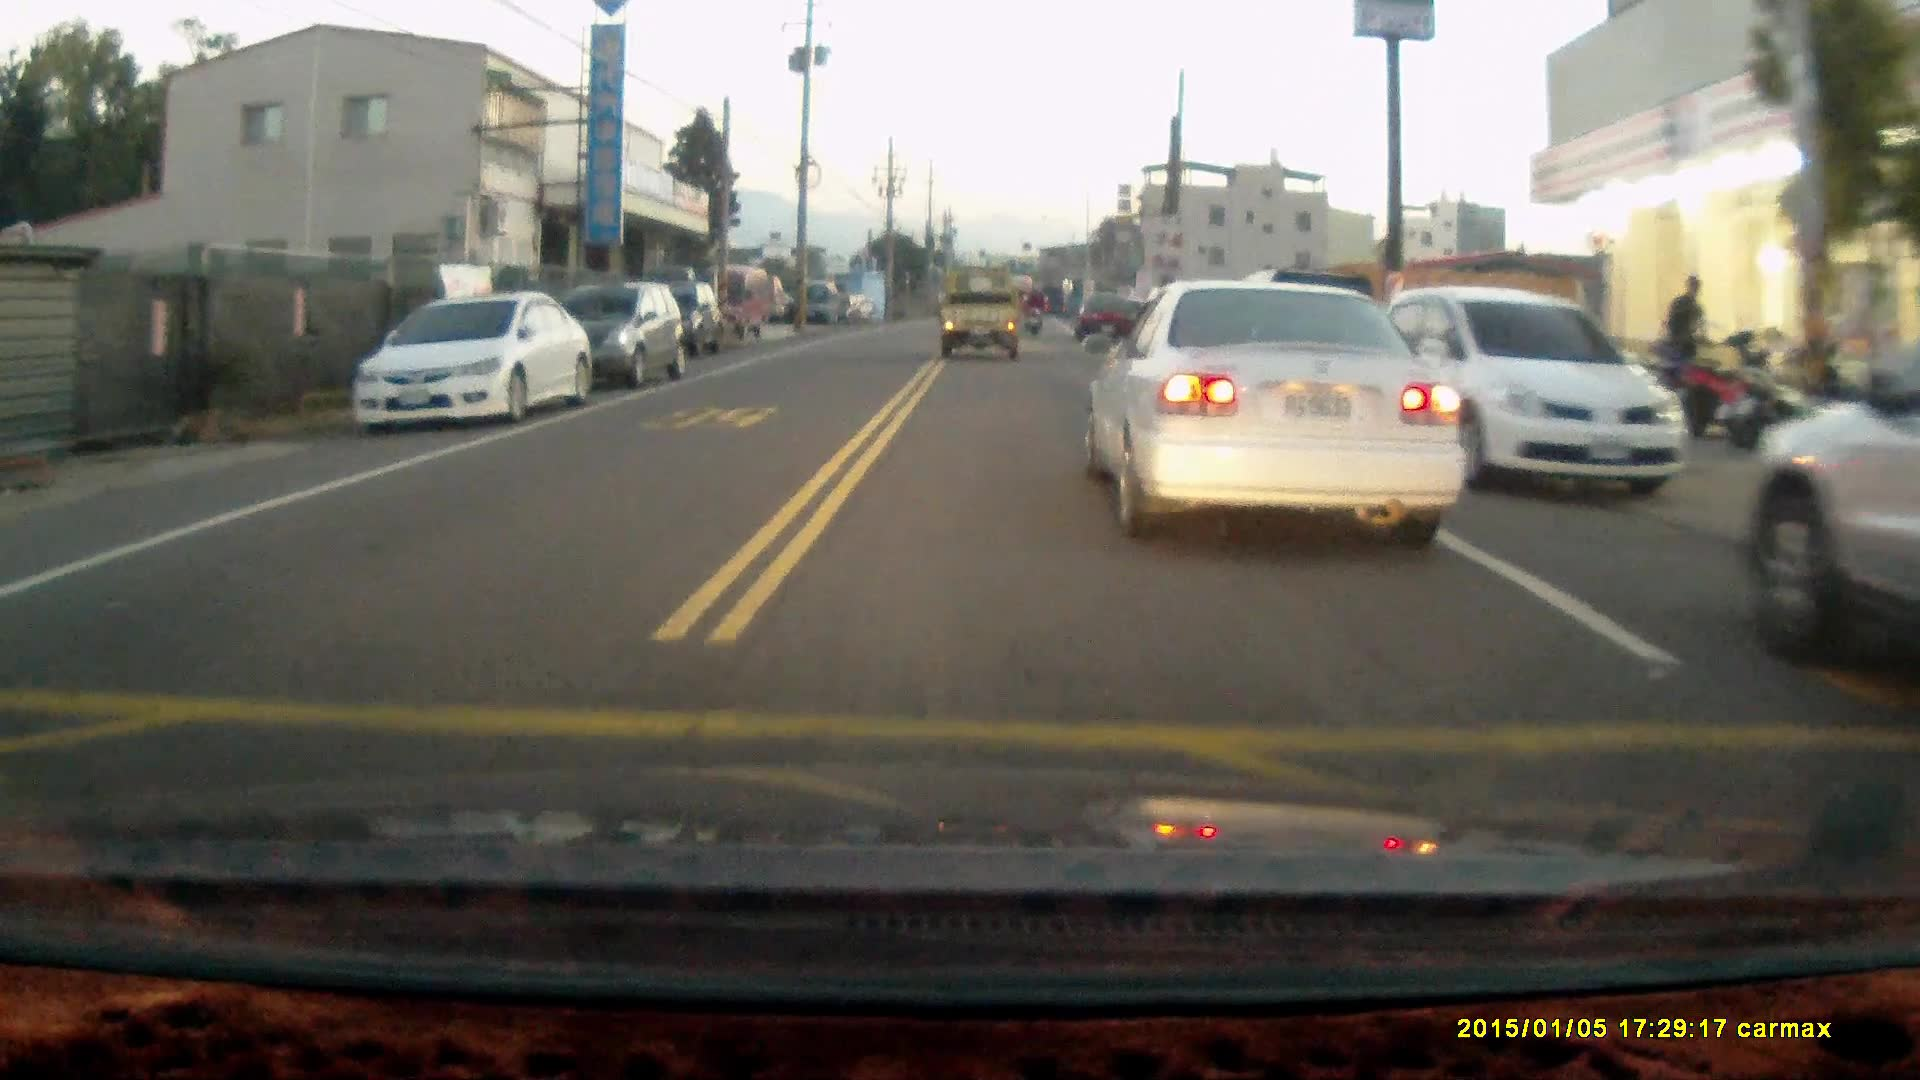pedestrian: (1664, 273, 1711, 386)
rider: (1021, 284, 1047, 332)
vehicle: (1090, 282, 1456, 547), (1736, 343, 1920, 725), (1370, 291, 1697, 507), (352, 292, 596, 438), (532, 287, 689, 400), (624, 279, 731, 361), (942, 272, 1029, 370), (701, 266, 777, 344), (1074, 289, 1135, 342)
